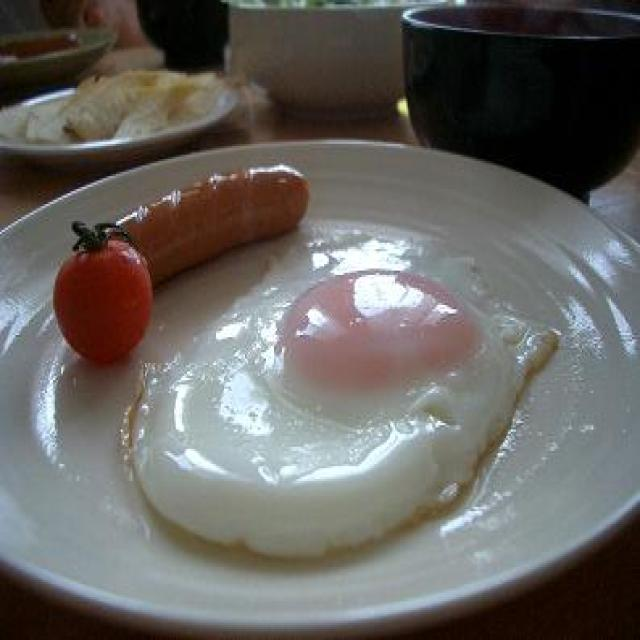鸡蛋料理: (176, 236, 548, 567)
